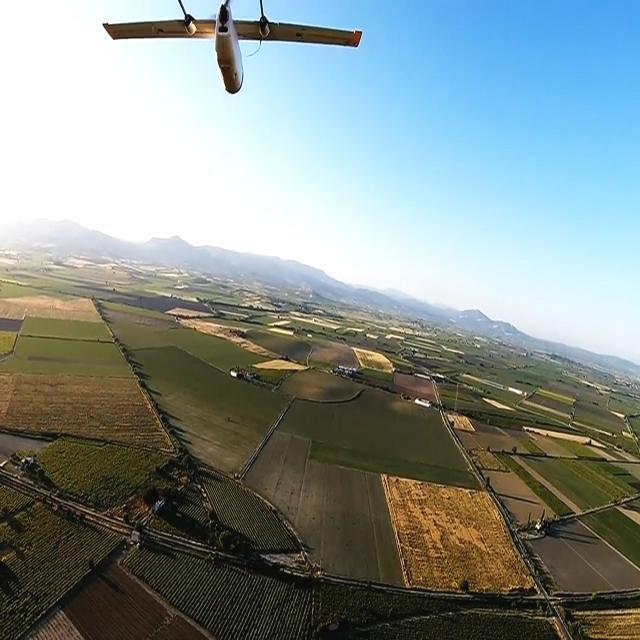iha: (96, 32, 374, 76)
